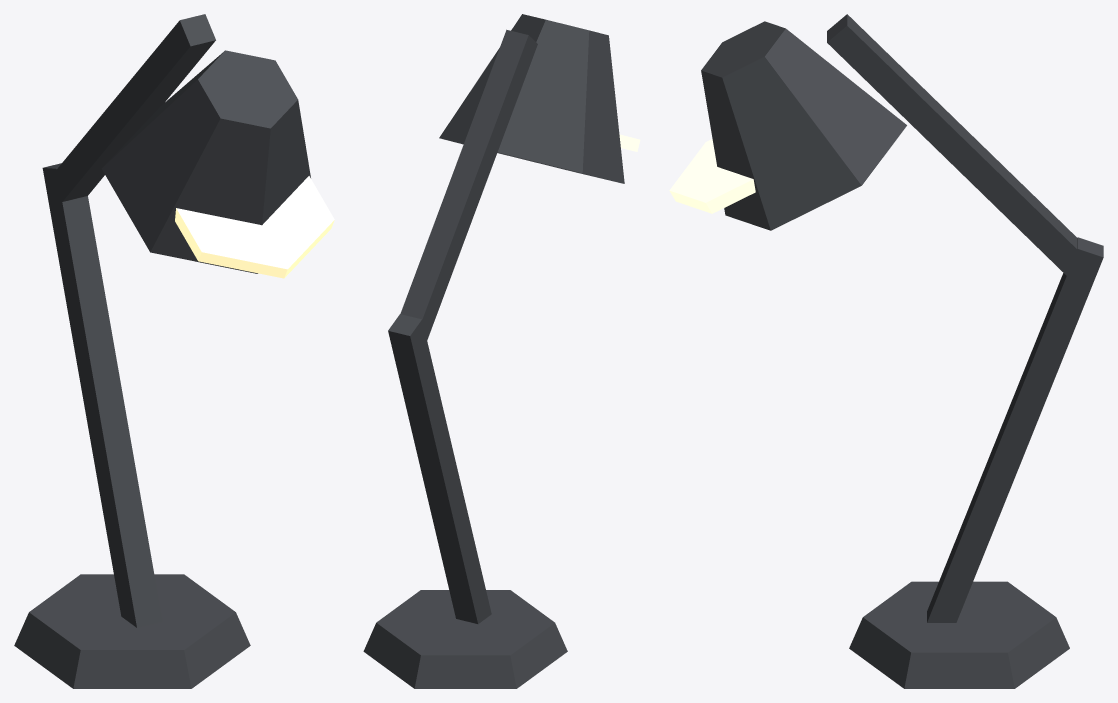
The model's file is desk_lamp.glb.
The picture shows the model from 3 angles, left to right: view 1: azimuth 30°, elevation 25°; view 2: azimuth 150°, elevation 25°; view 3: azimuth 270°, elevation 25°; orthographic projection. The views are drawn at different scales.
Visible parts, largest first — view 1: desk_lamp; view 2: desk_lamp; view 3: desk_lamp.
Boxes of the visible parts, x1,y1,x2,y2 form: desk_lamp: (14, 14, 334, 688); desk_lamp: (363, 14, 640, 688); desk_lamp: (669, 14, 1103, 688).
Size of the model in its own units: 0.1386 by 0.5019 by 0.3143.
